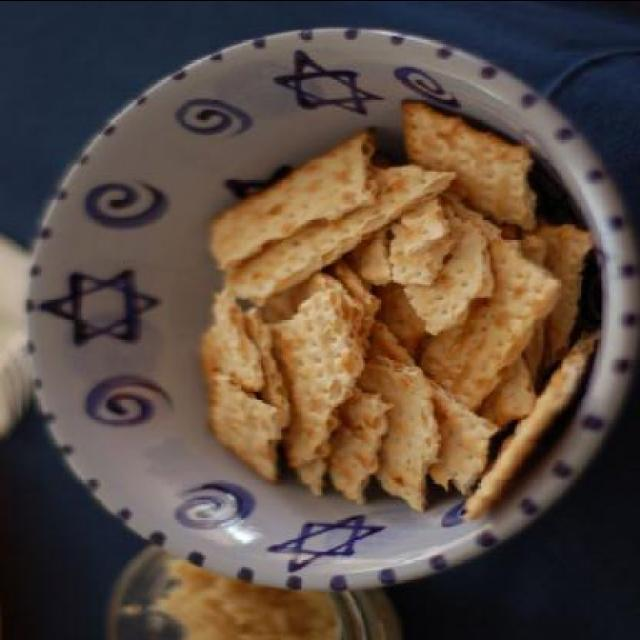Cracker packaged: (198, 133, 396, 270), (270, 286, 364, 469), (200, 379, 286, 479)
